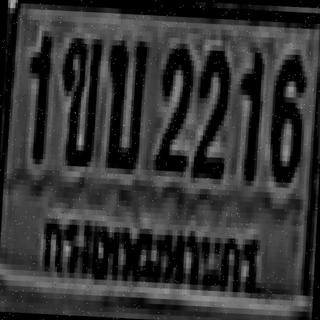A02: (56, 32, 101, 162)
A26: (103, 35, 145, 164)
N01: (236, 44, 263, 178), (25, 30, 50, 159)
N02: (153, 40, 193, 169), (191, 45, 230, 174)
N06: (266, 48, 306, 178)
P04: (34, 199, 270, 308)
